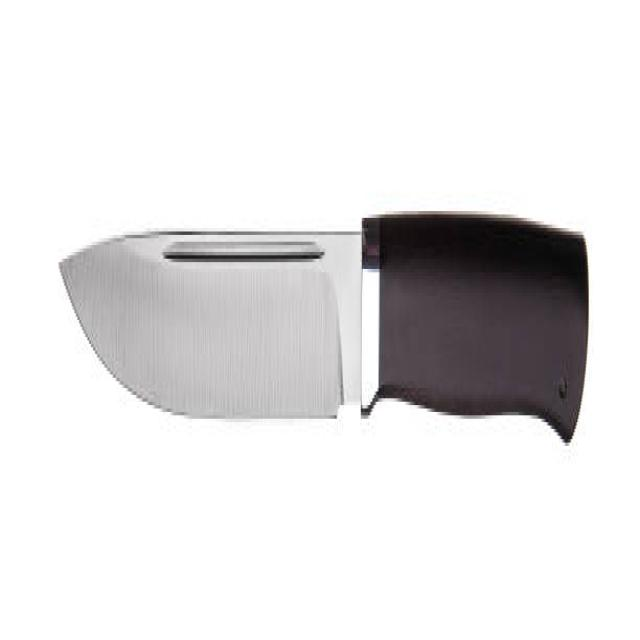knife: (59, 207, 591, 453)
